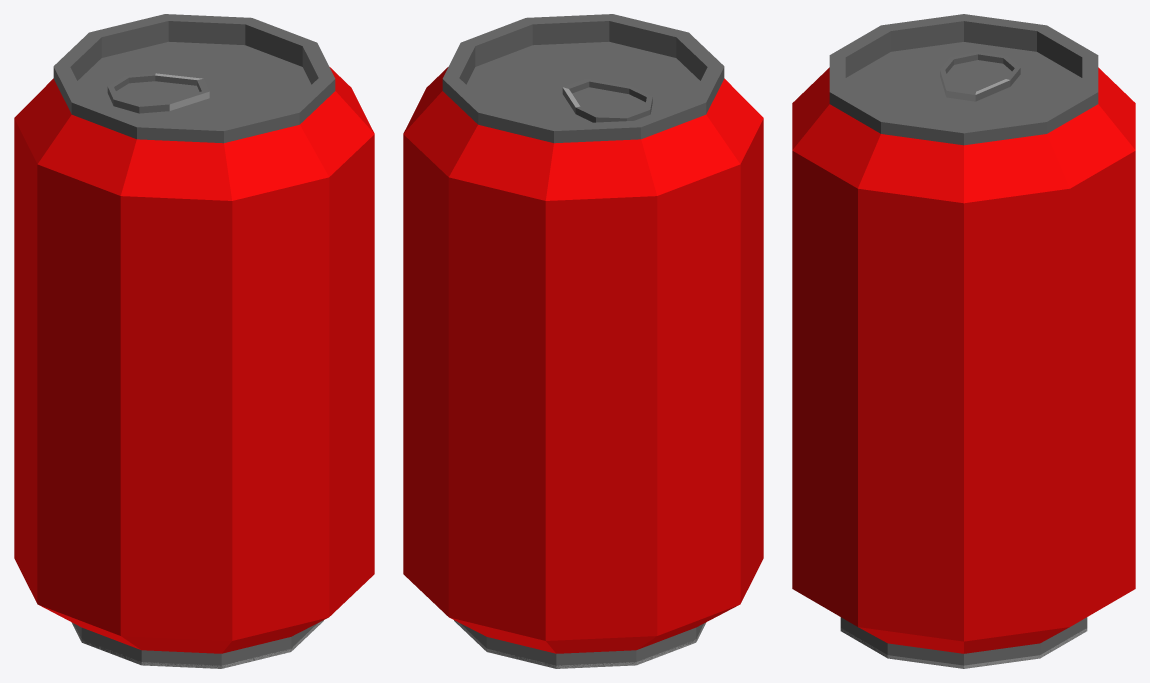
File: SM_Can_Red.fbx
3 renders of one model, left to right at view 1: azimuth 30°, elevation 25°; view 2: azimuth 150°, elevation 25°; view 3: azimuth 270°, elevation 25°, orthographic.
Parts seen in each view (by area): view 1: pCylinder1, pCylinder2; view 2: pCylinder1, pCylinder2; view 3: pCylinder1, pCylinder2.
Boxes of the visible parts, bbox=[...] form: pCylinder1: bbox=[14, 14, 374, 668]; pCylinder2: bbox=[107, 73, 209, 113]; pCylinder1: bbox=[403, 14, 763, 668]; pCylinder2: bbox=[562, 78, 652, 122]; pCylinder1: bbox=[792, 14, 1135, 668]; pCylinder2: bbox=[940, 52, 1020, 101].
Size of the model in its own units: 5.15 by 8.5 by 4.9.
